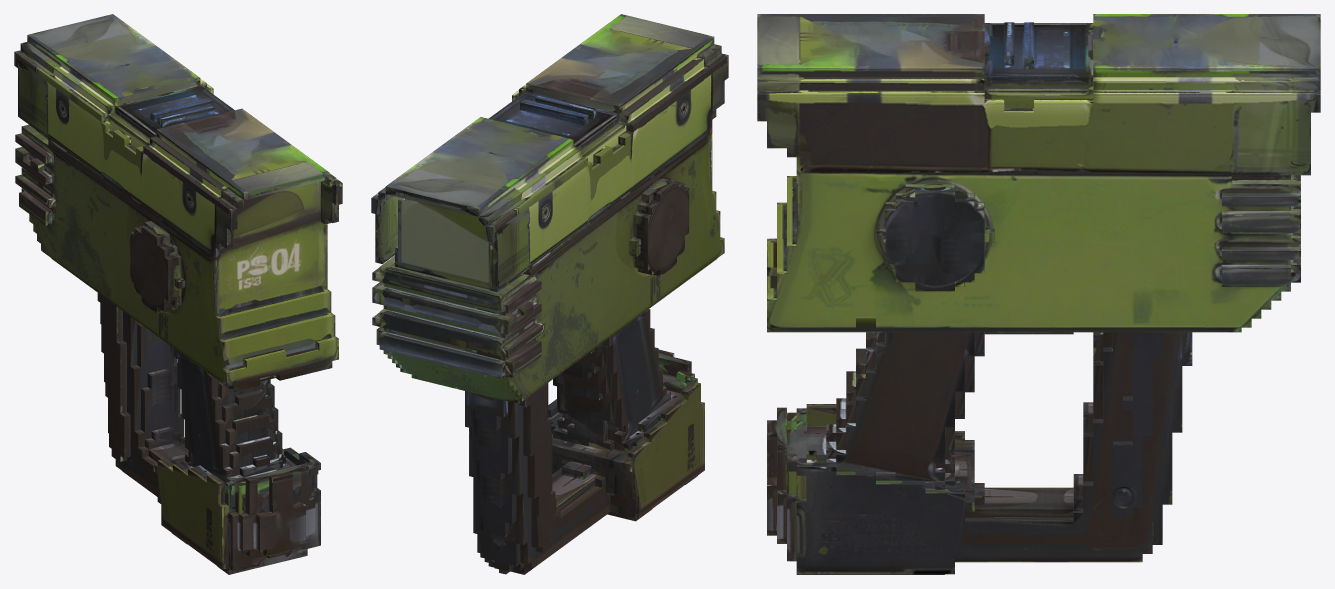
The model's file is TACT.fbx.
The picture shows the model from 3 angles, left to right: view 1: azimuth 30°, elevation 25°; view 2: azimuth 150°, elevation 25°; view 3: azimuth 270°, elevation 25°; orthographic projection. The views are drawn at different scales.
Parts seen in each view (by area): view 1: Mesh_0.001; view 2: Mesh_0.001; view 3: Mesh_0.001.
Boxes of the visible parts, bbox=[...] form: Mesh_0.001: bbox=[14, 14, 342, 574]; Mesh_0.001: bbox=[371, 14, 728, 574]; Mesh_0.001: bbox=[757, 14, 1320, 574].
Bounding box in the file's own units: 72.66 × 197 × 197.
